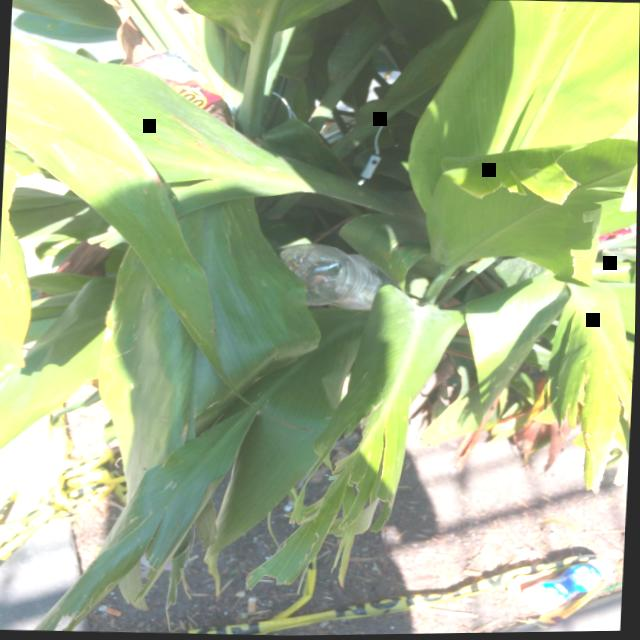Cigarette: (98, 604, 122, 616), (248, 597, 257, 612)
Clear plastic bottle: (279, 243, 397, 309)
Other plastic container: (523, 558, 615, 614)
Unlabeled litter: (120, 51, 232, 129)
